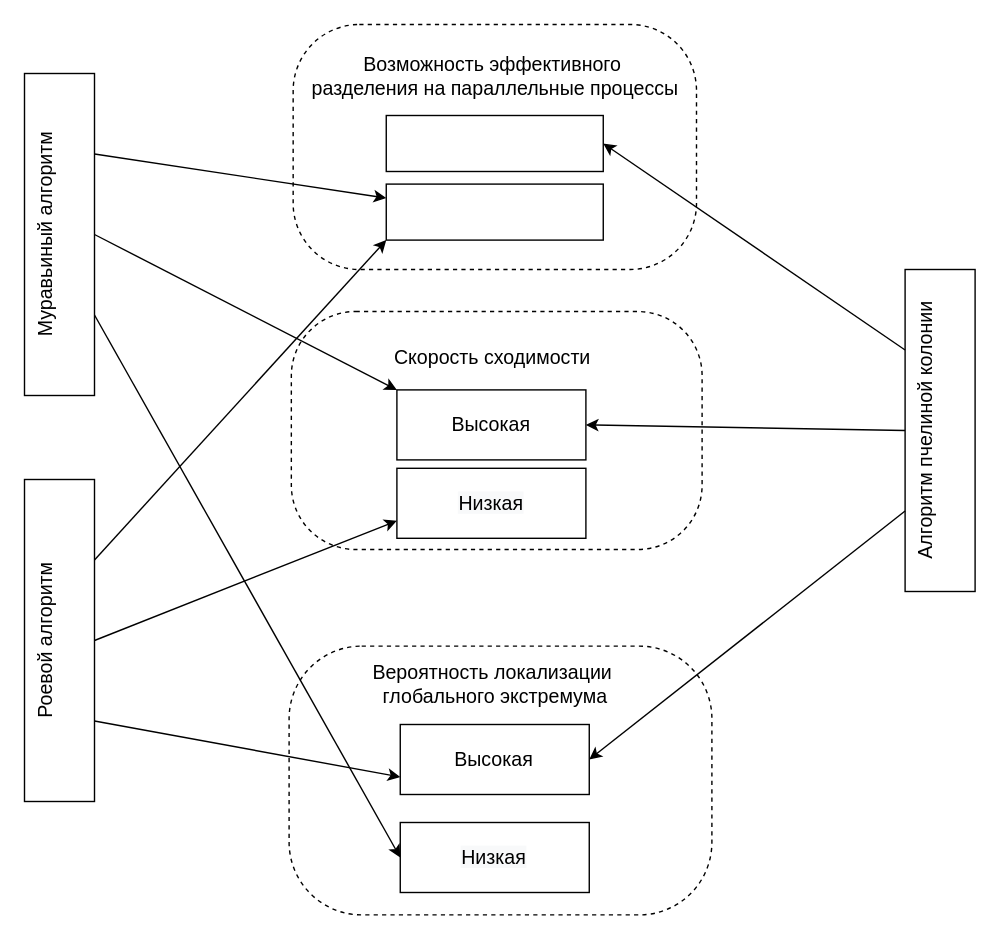
The diagram is 1000 pixels wide and 939 high, and some of its shapes have lost their labels. The shapes that lost their labels are listed below. From the top down, each one's centre as x and y in pixels, then its label:
the point at 494,143: Да
the point at 494,211: Нет
